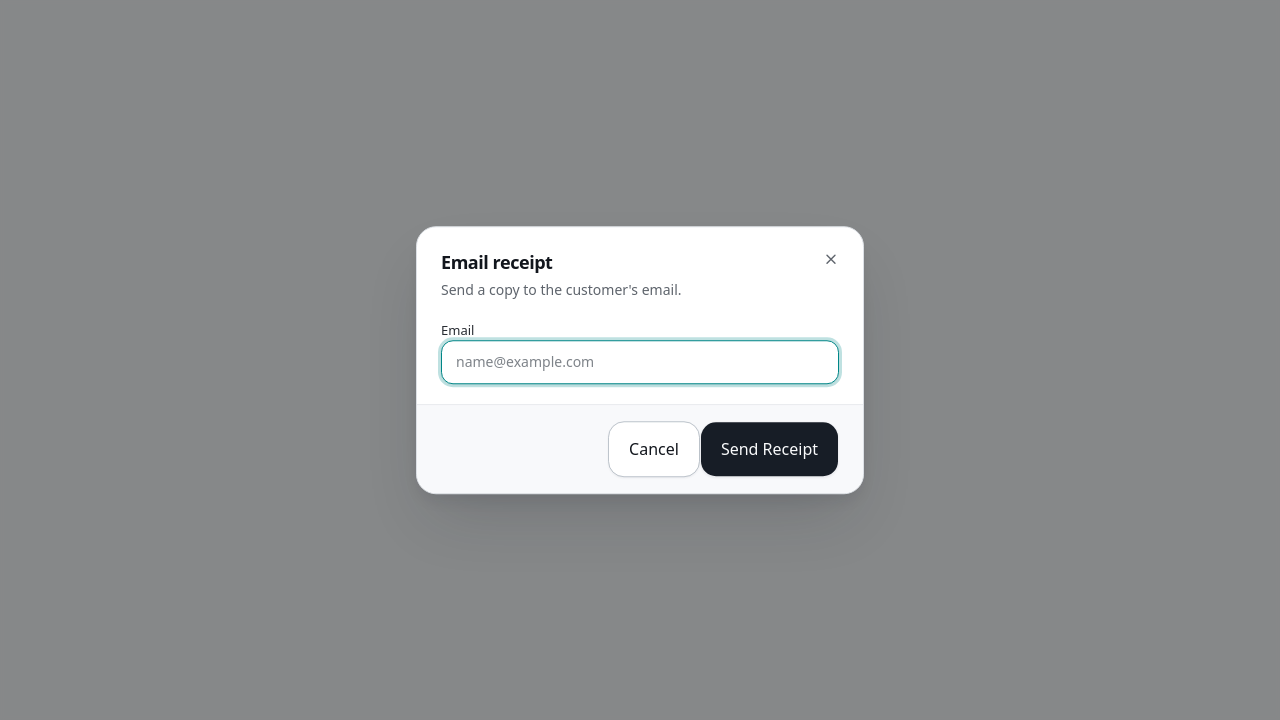
EmailReceiptDialog › shows validation error for invalid email
Type "bad" into the field labelled "Email" at (640, 362), box [441,340,839,384]
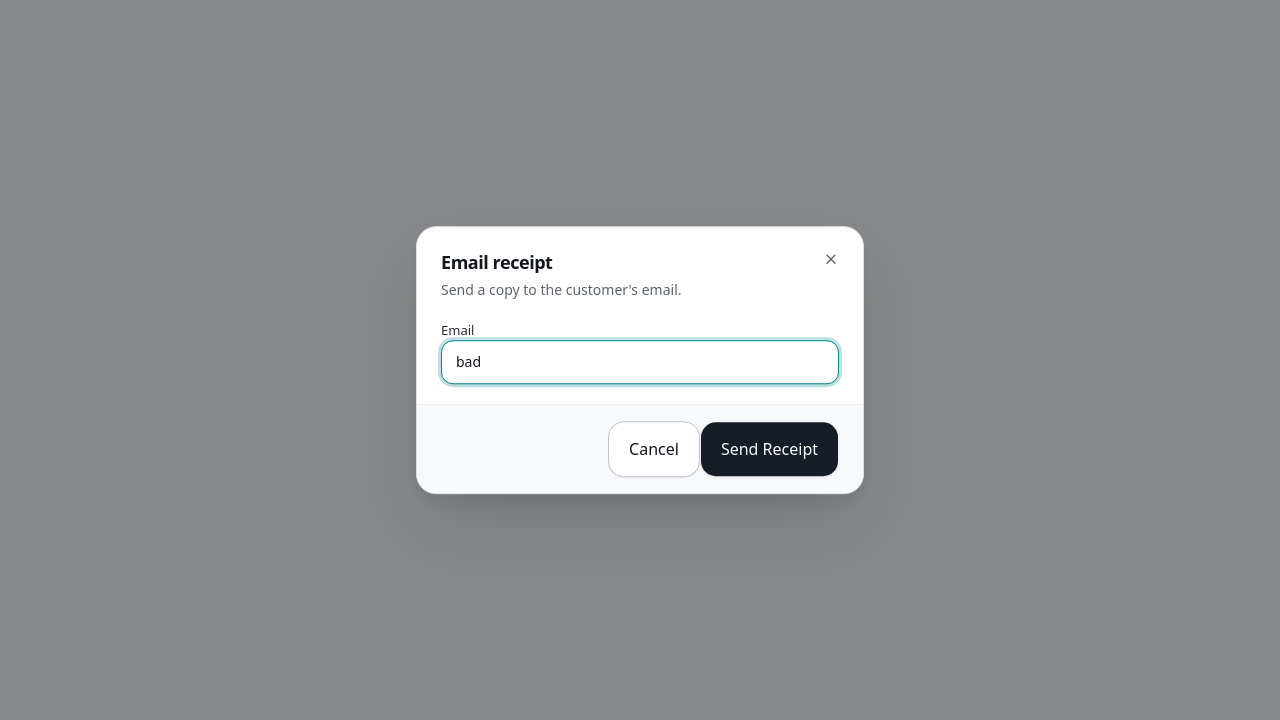
Click the button "Send Receipt" at (769, 449), box [700,421,839,477]
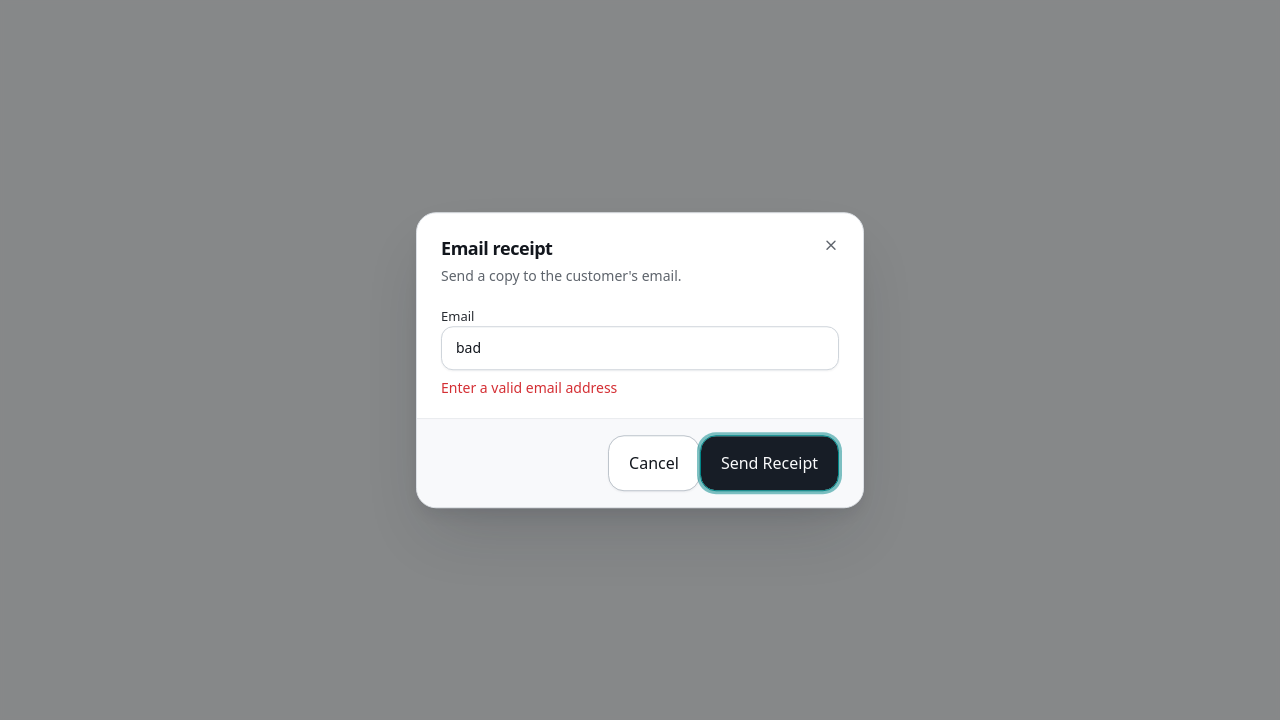
Result: the text "Enter a valid email address" is shown at [441,378,617,397]
